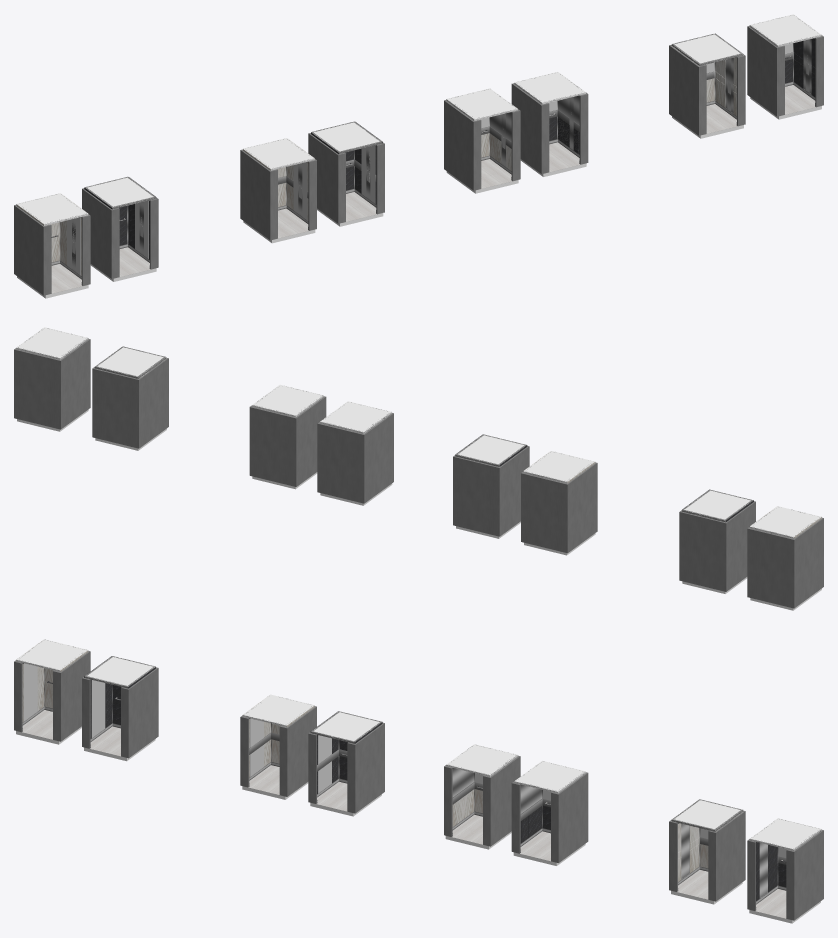
3 renders of one model, top to bottom at view 1: azimuth 30°, elevation 25°; view 2: azimuth 150°, elevation 25°; view 3: azimuth 330°, elevation 25°, orthographic.
Parts seen in each view (by area): view 1: node_f7c5b463_f868_4caa_9c13_ab2863b42d8e_mesh0, node_586314a9_e8e6_4c2e_a62a_ab6facb8676f_mesh0, node_ce5995f2_b6db_4755_8ee9_91056259dac7_mesh0, node_64d3d4bb_c435_40b4_b695_efb14b83370e_mesh0, node_a41f996b_569c_4ae6_85b6_da78ae53c4d6_mesh0, node_28be3657_142a_495f_9b77_700d0bf14d29_mesh0, node_80f3c2e7_5fca_42fa_bc9a_df205e305215_mesh0, node_059e6595_8608_46b0_9531_69f4f48842da_mesh0, node_cdd5e556_2ac5_4cfe_95d9_bcb4043faece_mesh0, node_8bf3418e_e895_40d9_81ca_f7da4046d181_mesh0, node_1971e129_c96f_4884_a7f3_9e50c6a29f85_mesh0, node_93b362bf_d3e8_49fd_b61e_f7b952765aa0_mesh0 (+8 smaller); view 2: node_ce5995f2_b6db_4755_8ee9_91056259dac7_mesh0, node_f7c5b463_f868_4caa_9c13_ab2863b42d8e_mesh0, node_586314a9_e8e6_4c2e_a62a_ab6facb8676f_mesh0, node_64d3d4bb_c435_40b4_b695_efb14b83370e_mesh0, node_a41f996b_569c_4ae6_85b6_da78ae53c4d6_mesh0, node_28be3657_142a_495f_9b77_700d0bf14d29_mesh0, node_80f3c2e7_5fca_42fa_bc9a_df205e305215_mesh0, node_059e6595_8608_46b0_9531_69f4f48842da_mesh0, node_1971e129_c96f_4884_a7f3_9e50c6a29f85_mesh0, node_224f2f77_352d_4543_b749_002ff193bac8_mesh0, node_a4e48950_0ad2_4a2a_b246_de1d61dd257a_mesh0, node_8bf3418e_e895_40d9_81ca_f7da4046d181_mesh0 (+4 smaller); view 3: node_28be3657_142a_495f_9b77_700d0bf14d29_mesh0, node_ce5995f2_b6db_4755_8ee9_91056259dac7_mesh0, node_586314a9_e8e6_4c2e_a62a_ab6facb8676f_mesh0, node_059e6595_8608_46b0_9531_69f4f48842da_mesh0, node_80f3c2e7_5fca_42fa_bc9a_df205e305215_mesh0, node_a41f996b_569c_4ae6_85b6_da78ae53c4d6_mesh0, node_f7c5b463_f868_4caa_9c13_ab2863b42d8e_mesh0, node_64d3d4bb_c435_40b4_b695_efb14b83370e_mesh0, node_ec18b50f_9432_4ef6_bca7_5abd782d8aa5_mesh0, node_cdd5e556_2ac5_4cfe_95d9_bcb4043faece_mesh0, node_1971e129_c96f_4884_a7f3_9e50c6a29f85_mesh0, node_93b362bf_d3e8_49fd_b61e_f7b952765aa0_mesh0 (+12 smaller).
Boxes of the visible parts, x1=… form: node_f7c5b463_f868_4caa_9c13_ab2863b42d8e_mesh0: x1=444, y1=100, x2=520, y2=190; node_586314a9_e8e6_4c2e_a62a_ab6facb8676f_mesh0: x1=669, y1=45, x2=745, y2=135; node_ce5995f2_b6db_4755_8ee9_91056259dac7_mesh0: x1=747, y1=26, x2=823, y2=116; node_64d3d4bb_c435_40b4_b695_efb14b83370e_mesh0: x1=14, y1=205, x2=90, y2=295; node_a41f996b_569c_4ae6_85b6_da78ae53c4d6_mesh0: x1=240, y1=149, x2=316, y2=240; node_28be3657_142a_495f_9b77_700d0bf14d29_mesh0: x1=511, y1=83, x2=588, y2=174; node_80f3c2e7_5fca_42fa_bc9a_df205e305215_mesh0: x1=82, y1=188, x2=158, y2=278; node_059e6595_8608_46b0_9531_69f4f48842da_mesh0: x1=308, y1=133, x2=384, y2=223; node_cdd5e556_2ac5_4cfe_95d9_bcb4043faece_mesh0: x1=19, y1=194, x2=85, y2=223; node_8bf3418e_e895_40d9_81ca_f7da4046d181_mesh0: x1=87, y1=177, x2=153, y2=206; node_1971e129_c96f_4884_a7f3_9e50c6a29f85_mesh0: x1=449, y1=89, x2=515, y2=118; node_93b362bf_d3e8_49fd_b61e_f7b952765aa0_mesh0: x1=246, y1=139, x2=311, y2=167; node_ce5995f2_b6db_4755_8ee9_91056259dac7_mesh0: x1=14, y1=338, x2=90, y2=429; node_f7c5b463_f868_4caa_9c13_ab2863b42d8e_mesh0: x1=317, y1=413, x2=393, y2=503; node_586314a9_e8e6_4c2e_a62a_ab6facb8676f_mesh0: x1=92, y1=357, x2=168, y2=448; node_64d3d4bb_c435_40b4_b695_efb14b83370e_mesh0: x1=747, y1=517, x2=823, y2=608; node_a41f996b_569c_4ae6_85b6_da78ae53c4d6_mesh0: x1=521, y1=462, x2=597, y2=553; node_28be3657_142a_495f_9b77_700d0bf14d29_mesh0: x1=249, y1=396, x2=326, y2=486; node_80f3c2e7_5fca_42fa_bc9a_df205e305215_mesh0: x1=679, y1=501, x2=755, y2=591; node_059e6595_8608_46b0_9531_69f4f48842da_mesh0: x1=453, y1=446, x2=529, y2=536; node_1971e129_c96f_4884_a7f3_9e50c6a29f85_mesh0: x1=322, y1=402, x2=388, y2=431; node_224f2f77_352d_4543_b749_002ff193bac8_mesh0: x1=458, y1=435, x2=524, y2=464; node_a4e48950_0ad2_4a2a_b246_de1d61dd257a_mesh0: x1=97, y1=347, x2=163, y2=376; node_8bf3418e_e895_40d9_81ca_f7da4046d181_mesh0: x1=684, y1=490, x2=750, y2=519; node_28be3657_142a_495f_9b77_700d0bf14d29_mesh0: x1=511, y1=772, x2=588, y2=862; node_ce5995f2_b6db_4755_8ee9_91056259dac7_mesh0: x1=747, y1=830, x2=823, y2=920; node_586314a9_e8e6_4c2e_a62a_ab6facb8676f_mesh0: x1=669, y1=810, x2=745, y2=901; node_059e6595_8608_46b0_9531_69f4f48842da_mesh0: x1=308, y1=722, x2=384, y2=813; node_80f3c2e7_5fca_42fa_bc9a_df205e305215_mesh0: x1=82, y1=667, x2=158, y2=758; node_a41f996b_569c_4ae6_85b6_da78ae53c4d6_mesh0: x1=240, y1=706, x2=316, y2=796; node_f7c5b463_f868_4caa_9c13_ab2863b42d8e_mesh0: x1=444, y1=755, x2=520, y2=846; node_64d3d4bb_c435_40b4_b695_efb14b83370e_mesh0: x1=14, y1=651, x2=90, y2=741; node_ec18b50f_9432_4ef6_bca7_5abd782d8aa5_mesh0: x1=752, y1=819, x2=818, y2=848; node_cdd5e556_2ac5_4cfe_95d9_bcb4043faece_mesh0: x1=19, y1=640, x2=85, y2=669; node_1971e129_c96f_4884_a7f3_9e50c6a29f85_mesh0: x1=449, y1=745, x2=515, y2=774; node_93b362bf_d3e8_49fd_b61e_f7b952765aa0_mesh0: x1=245, y1=695, x2=311, y2=724.
Size of the model in its own units: 98308 by 8878 by 6496.
17 materials, 14 textured.
